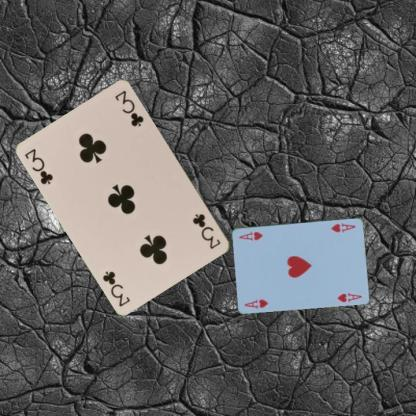3c: (190, 211, 223, 251), (22, 146, 55, 186)
Ah: (328, 220, 357, 234), (242, 297, 269, 310)
